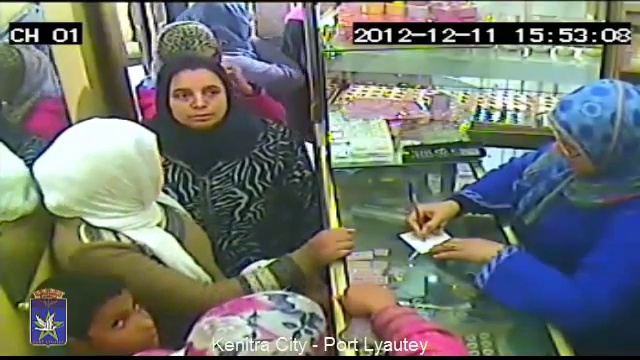face: (90, 287, 156, 349), (170, 75, 230, 126)
